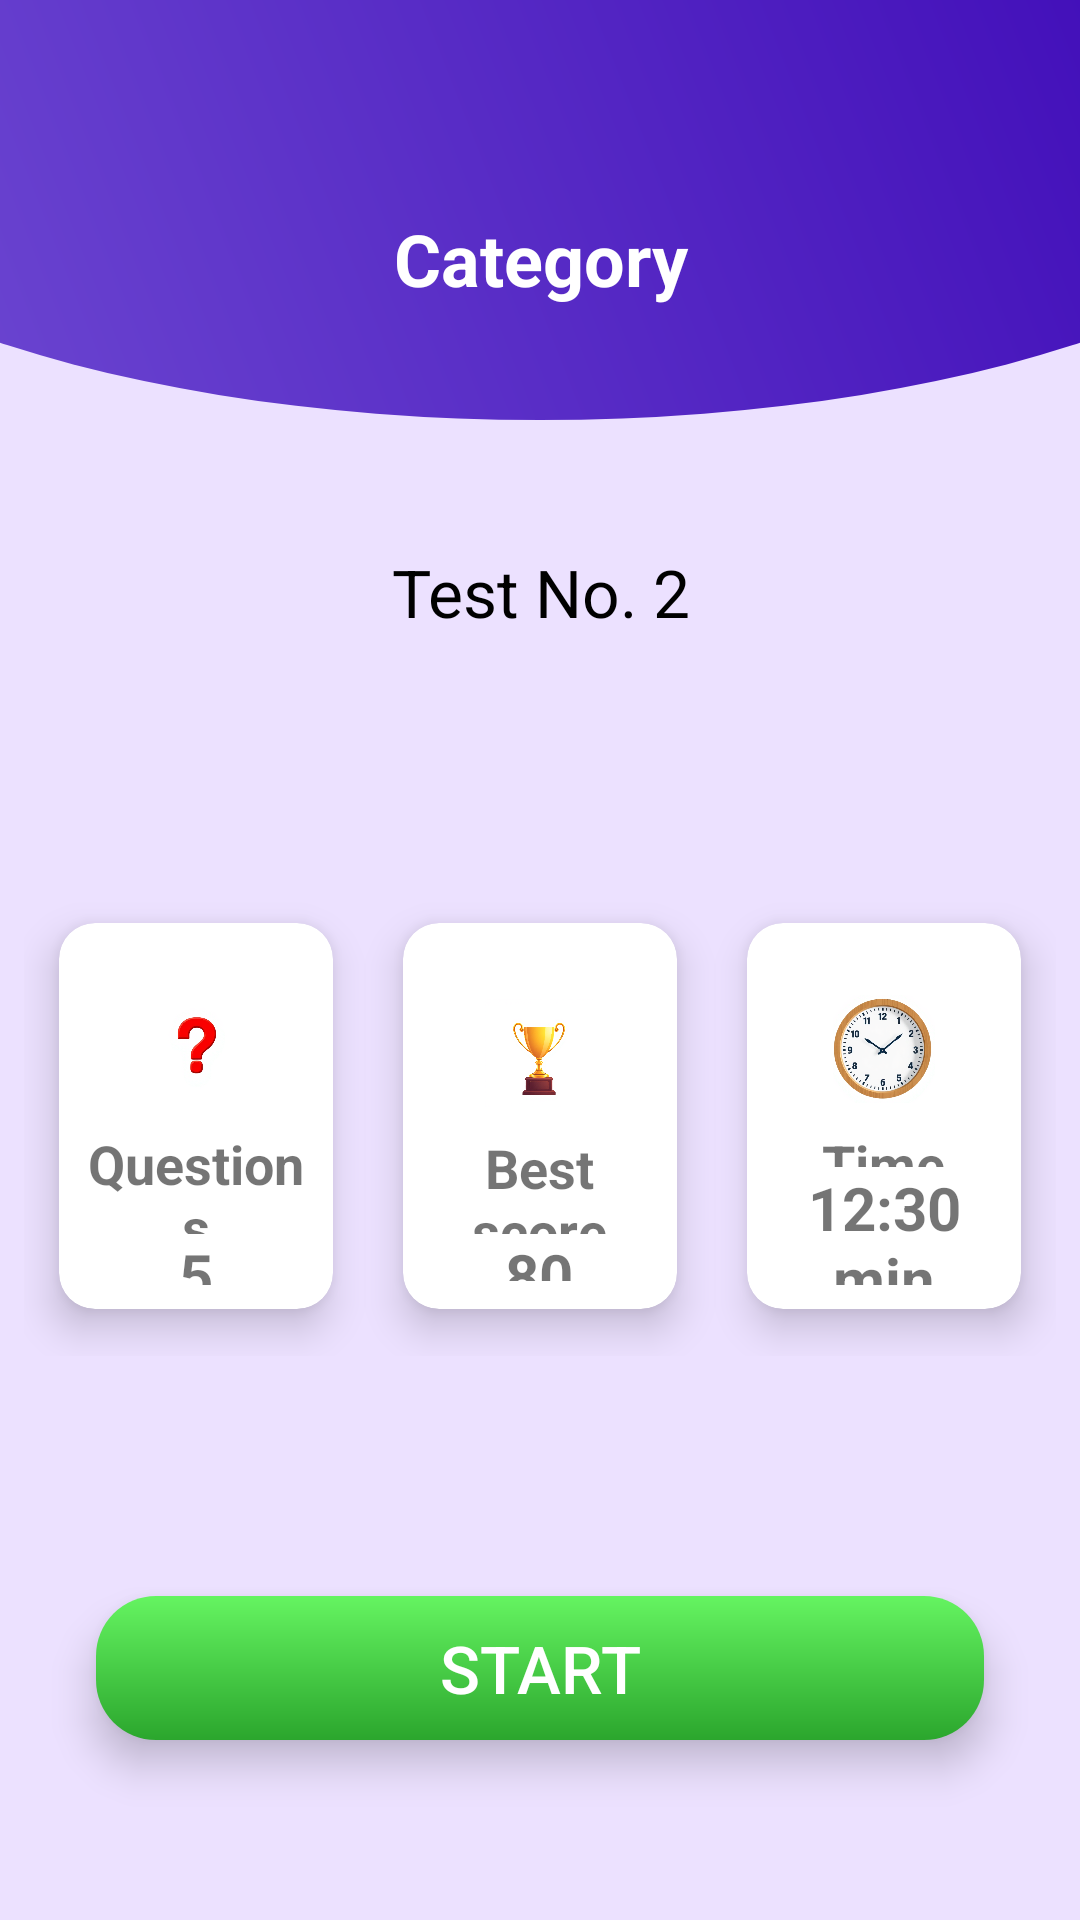

Icon bounding boxes for this 1080×1920 phone screenshot, format (x1, y1, x2, y2):
clock: (834, 999, 931, 1099)
questionmark: (178, 1017, 216, 1074)
trophy: (513, 1023, 565, 1095)
